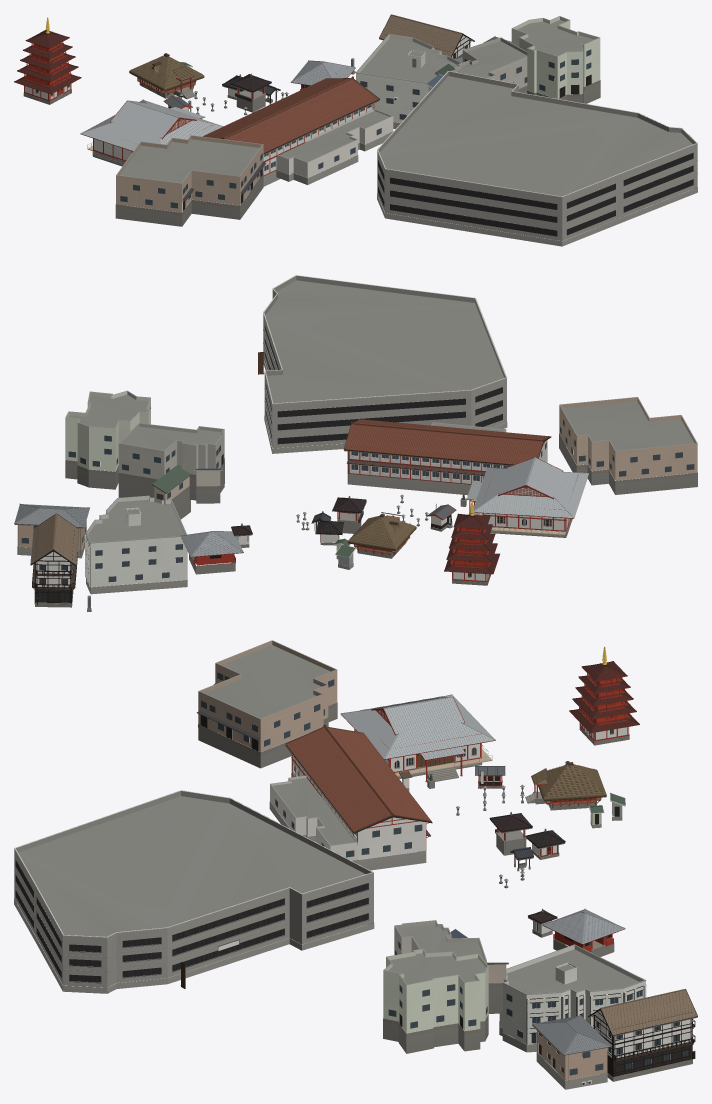
Rendered from buildings_D.glb.
3 views of the same model, one above another, from view 1: azimuth 30°, elevation 25°; view 2: azimuth 150°, elevation 25°; view 3: azimuth 270°, elevation 25° (orthographic). The views are drawn at different scales.
Parts seen in each view (by area): view 1: Bld_D_wall, Bld_D_metal, Bld_D_roof, Bld_D_glass, Bld_D_stone, Bld_D_wood, Bld_D_thatch, Bld_D_paint, Bld_D_dark; view 2: Bld_D_wall, Bld_D_metal, Bld_D_roof, Bld_D_stone, Bld_D_glass, Bld_D_wood, Bld_D_paint, Bld_D_thatch; view 3: Bld_D_wall, Bld_D_metal, Bld_D_roof, Bld_D_stone, Bld_D_glass, Bld_D_wood, Bld_D_thatch, Bld_D_paint.
Boxes of the visible parts, bbox=[...] form: Bld_D_wall: bbox=[25, 16, 697, 240]; Bld_D_metal: bbox=[14, 16, 697, 200]; Bld_D_roof: bbox=[202, 14, 462, 153]; Bld_D_glass: bbox=[36, 45, 693, 236]; Bld_D_stone: bbox=[23, 58, 697, 246]; Bld_D_wood: bbox=[14, 15, 474, 201]; Bld_D_thatch: bbox=[129, 54, 204, 91]; Bld_D_paint: bbox=[24, 72, 374, 175]; Bld_D_dark: bbox=[58, 74, 591, 210]; Bld_D_wall: bbox=[17, 275, 697, 587]; Bld_D_metal: bbox=[14, 275, 697, 604]; Bld_D_roof: bbox=[31, 419, 550, 564]; Bld_D_stone: bbox=[17, 359, 697, 611]; Bld_D_glass: bbox=[21, 325, 694, 602]; Bld_D_wood: bbox=[14, 352, 573, 605]; Bld_D_paint: bbox=[193, 420, 578, 581]; Bld_D_thatch: bbox=[347, 514, 416, 550]; Bld_D_wall: bbox=[14, 641, 691, 1080]; Bld_D_metal: bbox=[14, 640, 697, 1085]; Bld_D_roof: bbox=[286, 724, 697, 1035]; Bld_D_stone: bbox=[14, 702, 692, 1089]; Bld_D_glass: bbox=[15, 672, 689, 1075]; Bld_D_wood: bbox=[181, 663, 697, 1076]; Bld_D_thatch: bbox=[531, 761, 606, 801]; Bld_D_paint: bbox=[291, 704, 629, 952].
Bounding box in the file's own units: 133 × 40.78 × 127.
